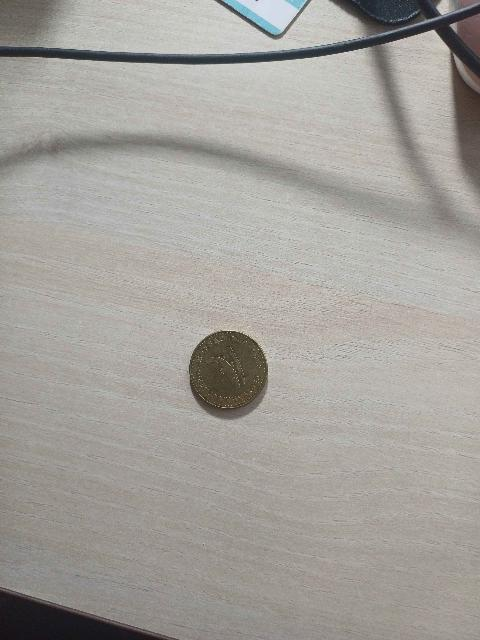2_coin: (190, 331, 267, 408)
